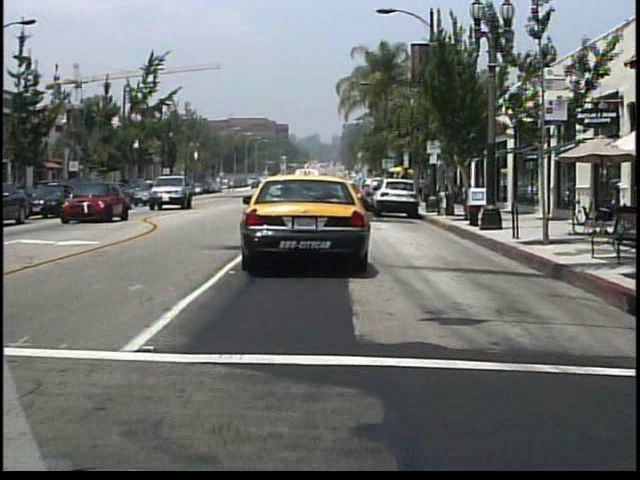person: (417, 175, 429, 200)
